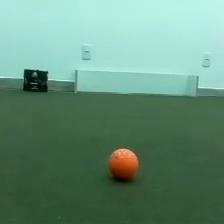ball: (106, 146, 141, 183)
goal: (72, 67, 201, 99)
robot: (21, 67, 50, 93)
